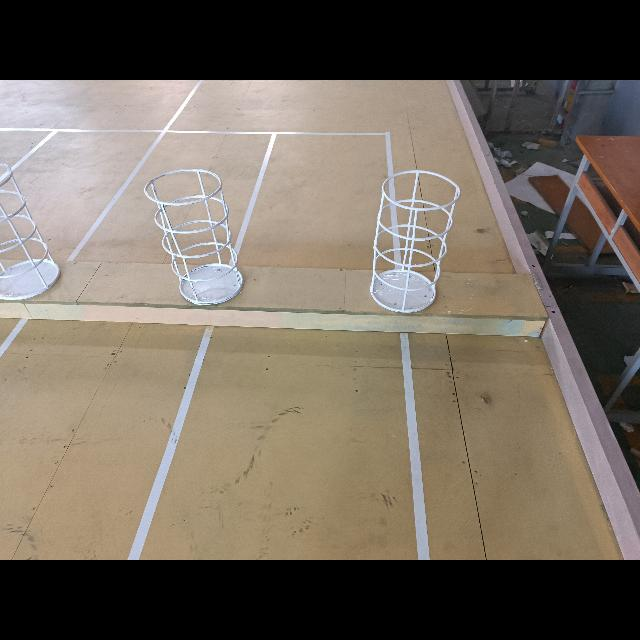S: (366, 165, 465, 315), (143, 167, 246, 307), (0, 158, 64, 307)
